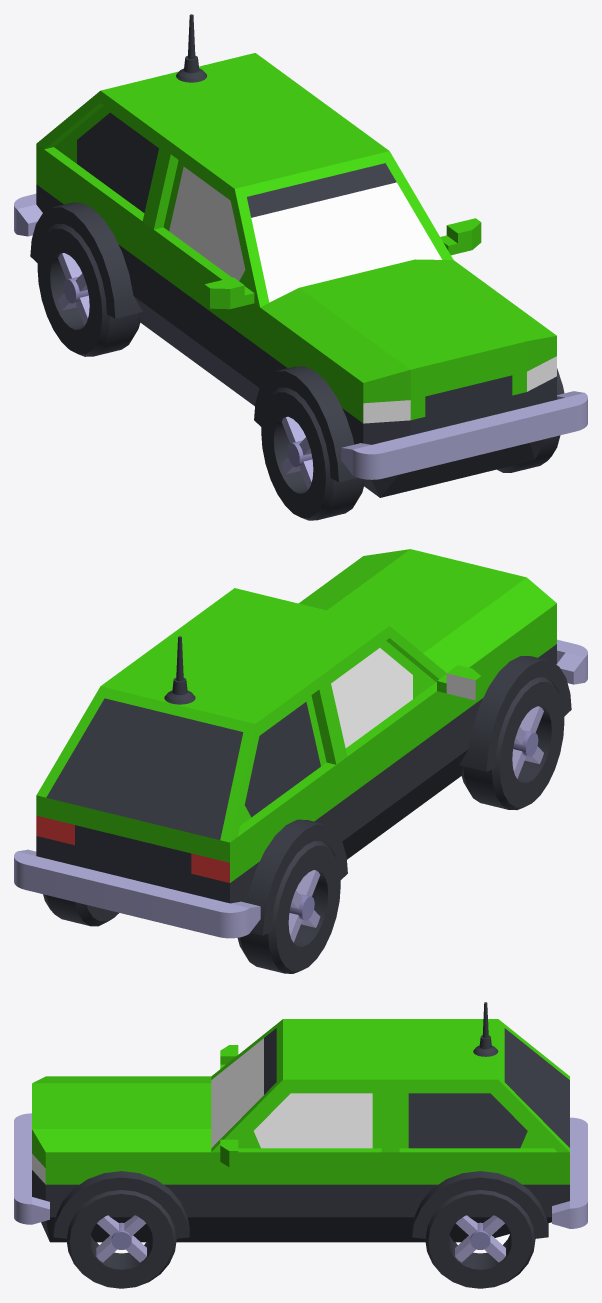
File: Green_Small_Car.fbx
The picture shows the model from 3 angles, top to bottom: view 1: azimuth 30°, elevation 25°; view 2: azimuth 150°, elevation 25°; view 3: azimuth 270°, elevation 25°; orthographic projection. The views are drawn at different scales.
Parts seen in each view (by area): view 1: body_topStandard (×2), body_frontSUV, wheel_spokes (×3), body_standard, bumper (×2), wheel_coverStandard (×2), body_backSolid, detail_mirror (×2), detail_antenna; view 2: body_topStandard (×2), body_frontSUV, body_backSolid, wheel_spokes (×3), body_standard, bumper (×2), wheel_coverStandard (×2), detail_mirror, detail_antenna; view 3: body_topStandard (×2), body_frontSUV, body_standard, wheel_spokes (×2), body_backSolid, wheel_coverStandard (×2), bumper (×2), detail_antenna, detail_mirror.
Part boxes in pixels (bbox=[...]): body_topStandard (×2): bbox=[36, 53, 453, 307]; body_frontSUV: bbox=[260, 259, 556, 497]; wheel_spokes (×3): bbox=[37, 224, 560, 520]; body_standard: bbox=[148, 226, 259, 405]; bumper (×2): bbox=[14, 193, 587, 479]; wheel_coverStandard (×2): bbox=[30, 202, 357, 482]; body_backSolid: bbox=[36, 144, 166, 341]; detail_mirror (×2): bbox=[204, 218, 481, 309]; detail_antenna: bbox=[176, 14, 206, 82]; body_topStandard (×2): bbox=[36, 588, 446, 842]; body_frontSUV: bbox=[298, 549, 556, 795]; body_backSolid: bbox=[36, 761, 341, 903]; wheel_spokes (×3): bbox=[43, 677, 564, 973]; body_standard: bbox=[342, 682, 453, 859]; bumper (×2): bbox=[14, 639, 587, 938]; wheel_coverStandard (×2): bbox=[246, 656, 571, 935]; detail_mirror: bbox=[437, 665, 481, 700]; detail_antenna: bbox=[164, 636, 195, 704]; body_topStandard (×2): bbox=[211, 1019, 569, 1152]; body_frontSUV: bbox=[32, 1076, 211, 1242]; body_standard: bbox=[211, 1148, 390, 1242]; wheel_spokes (×2): bbox=[66, 1190, 535, 1288]; body_backSolid: bbox=[390, 1148, 569, 1242]; wheel_coverStandard (×2): bbox=[53, 1171, 548, 1238]; bumper (×2): bbox=[14, 1113, 587, 1228]; detail_antenna: bbox=[473, 1002, 498, 1056]; detail_mirror: bbox=[220, 1139, 238, 1167].
Bounding box in the file's own units: 14 × 15.08 × 32.
